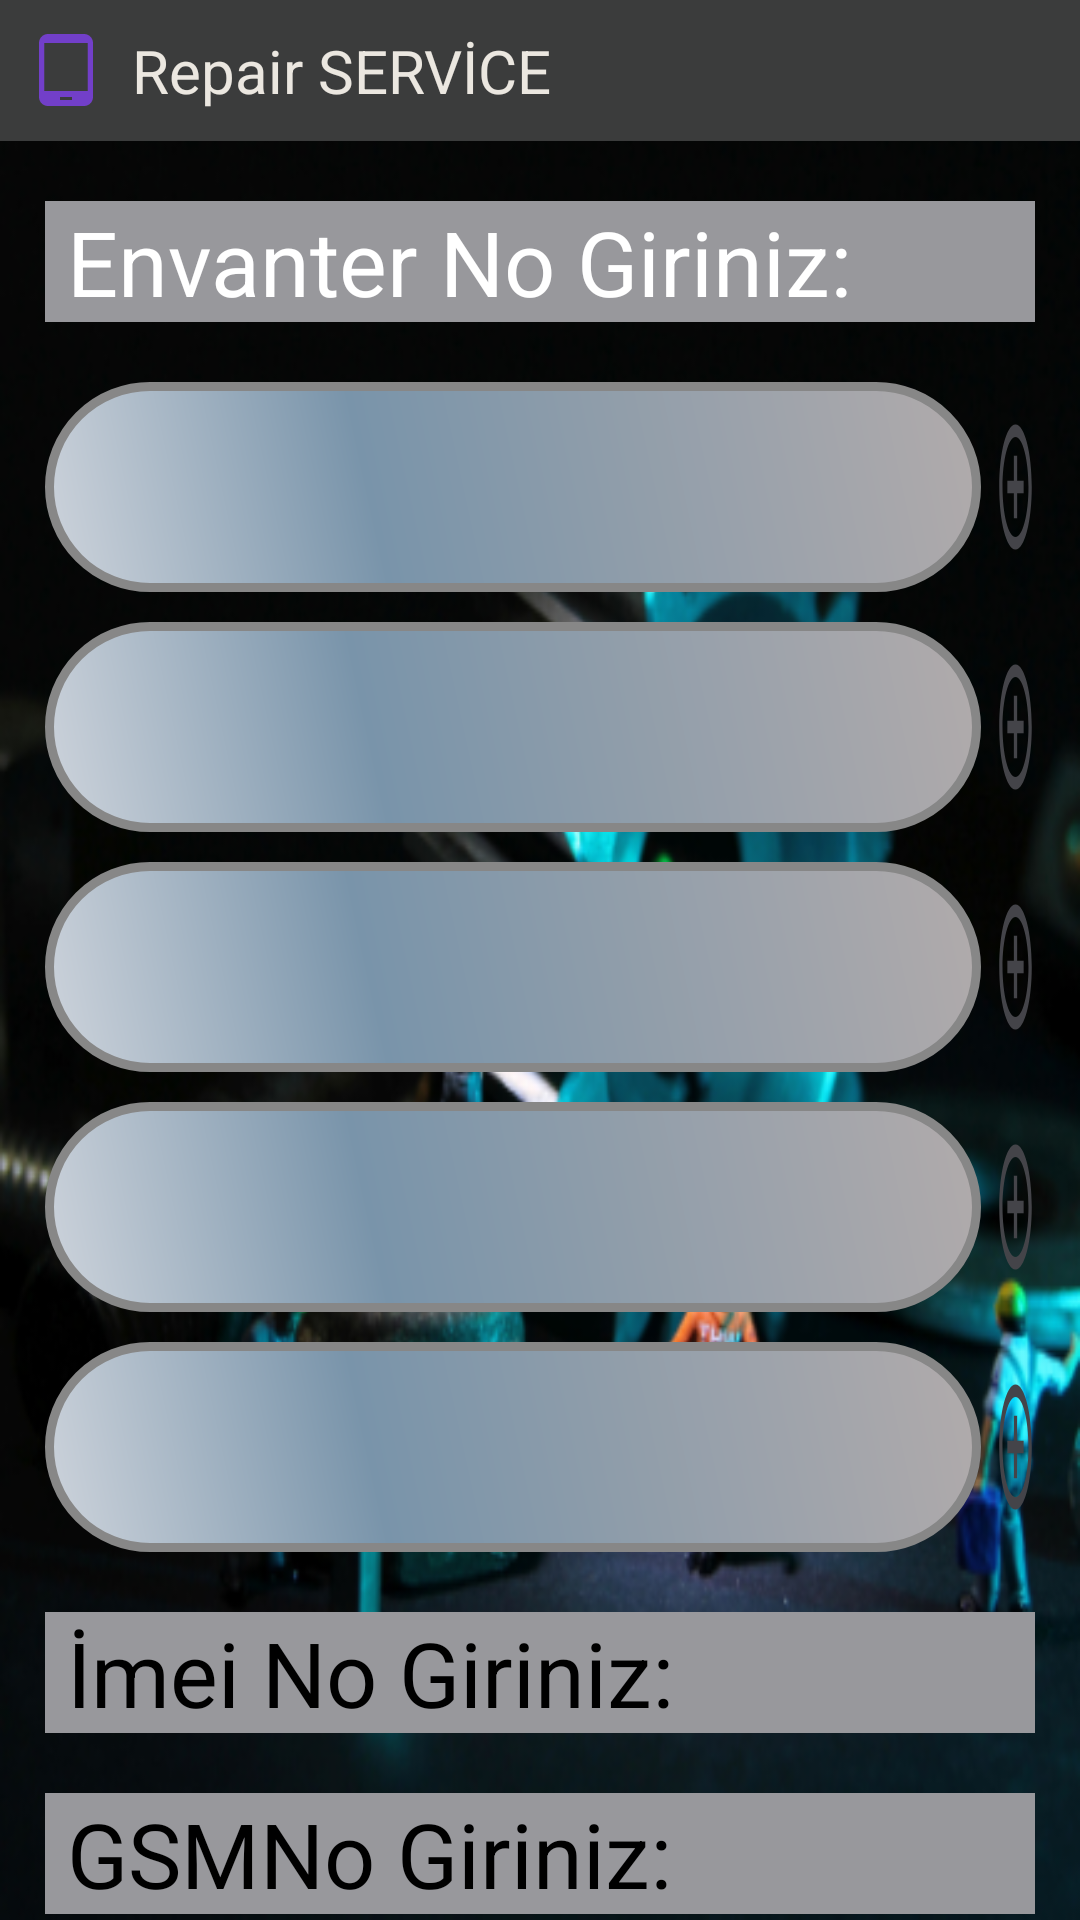

Icon bounding boxes for this 1080px x 1920px phone screenshot, format bbox=(x1, y1, x2, y2):
tablet android: bbox=(39, 34, 93, 106)
